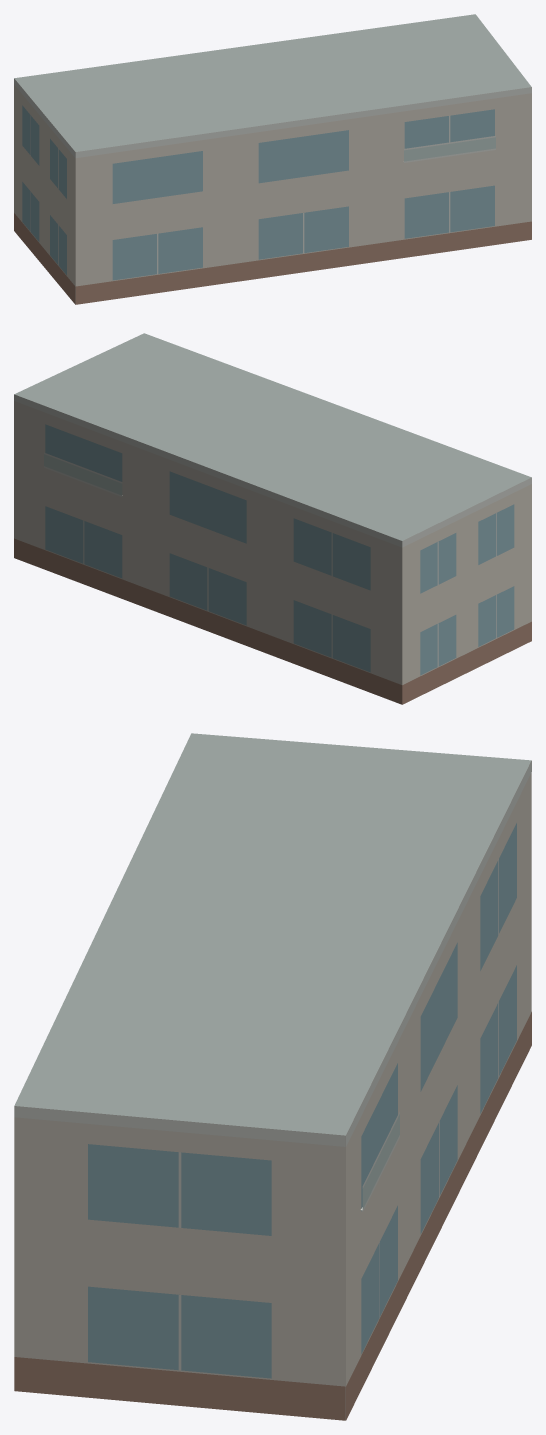
File: survey-upis-32665003.glb
3 renders of one model, top to bottom at view 1: azimuth 30°, elevation 25°; view 2: azimuth 150°, elevation 25°; view 3: azimuth 270°, elevation 25°, orthographic. The views are drawn at different scales.
Visible parts, largest first — view 1: survey-upis-32665003.tmp; view 2: survey-upis-32665003.tmp; view 3: survey-upis-32665003.tmp.
Boxes of the visible parts, left/top/right/bottom form: survey-upis-32665003.tmp: left=14, top=14, right=531, bottom=304; survey-upis-32665003.tmp: left=14, top=333, right=531, bottom=704; survey-upis-32665003.tmp: left=14, top=733, right=531, bottom=1420.
Bounding box in the file's own units: 18.48 × 6.1 × 10.05.
